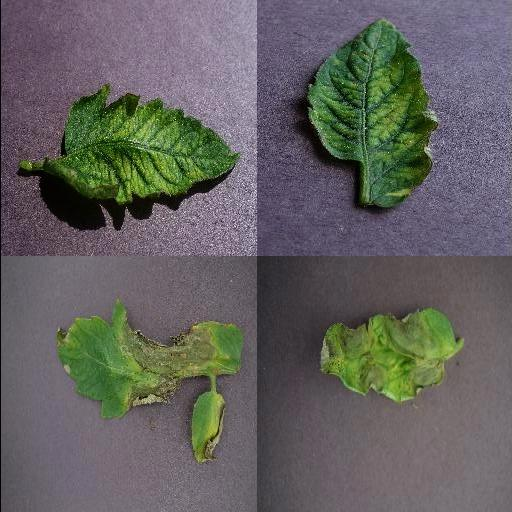Late Blight: (55, 298, 243, 420), (316, 306, 456, 404), (186, 390, 226, 464)
Mosaic Virus: (304, 17, 438, 211), (46, 80, 240, 204)
